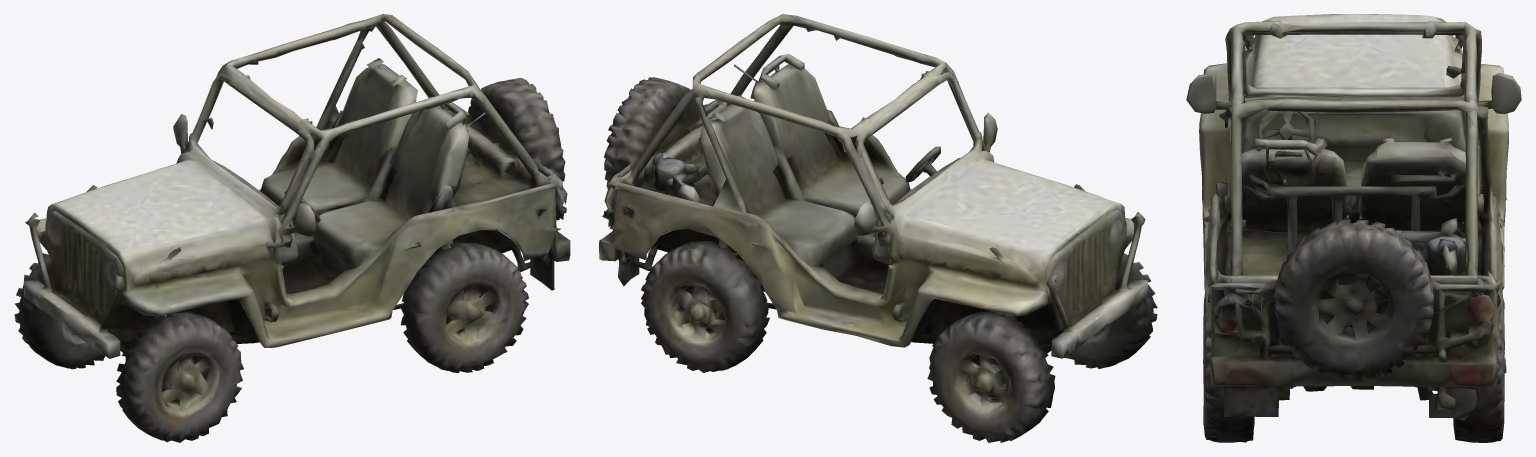
Rendered from mil_jeep.glb.
3 renders of one model, left to right at view 1: azimuth 30°, elevation 25°; view 2: azimuth 150°, elevation 25°; view 3: azimuth 270°, elevation 25°, orthographic. The views are drawn at different scales.
Parts seen in each view (by area): view 1: tripo_node_410063df-b76c-41ee-8902-e9a6e57aa1ff; view 2: tripo_node_410063df-b76c-41ee-8902-e9a6e57aa1ff; view 3: tripo_node_410063df-b76c-41ee-8902-e9a6e57aa1ff.
Boxes of the visible parts, <box> form: tripo_node_410063df-b76c-41ee-8902-e9a6e57aa1ff: <box>14,14,570,442</box>; tripo_node_410063df-b76c-41ee-8902-e9a6e57aa1ff: <box>599,14,1157,442</box>; tripo_node_410063df-b76c-41ee-8902-e9a6e57aa1ff: <box>1186,14,1521,442</box>.
Size of the model in its own units: 1 by 0.5644 by 0.4954.
1 material, 1 textured.
